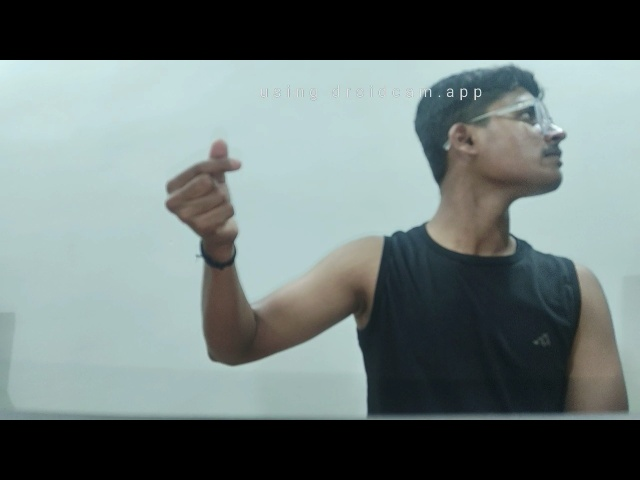iloveu: (153, 137, 271, 264)
